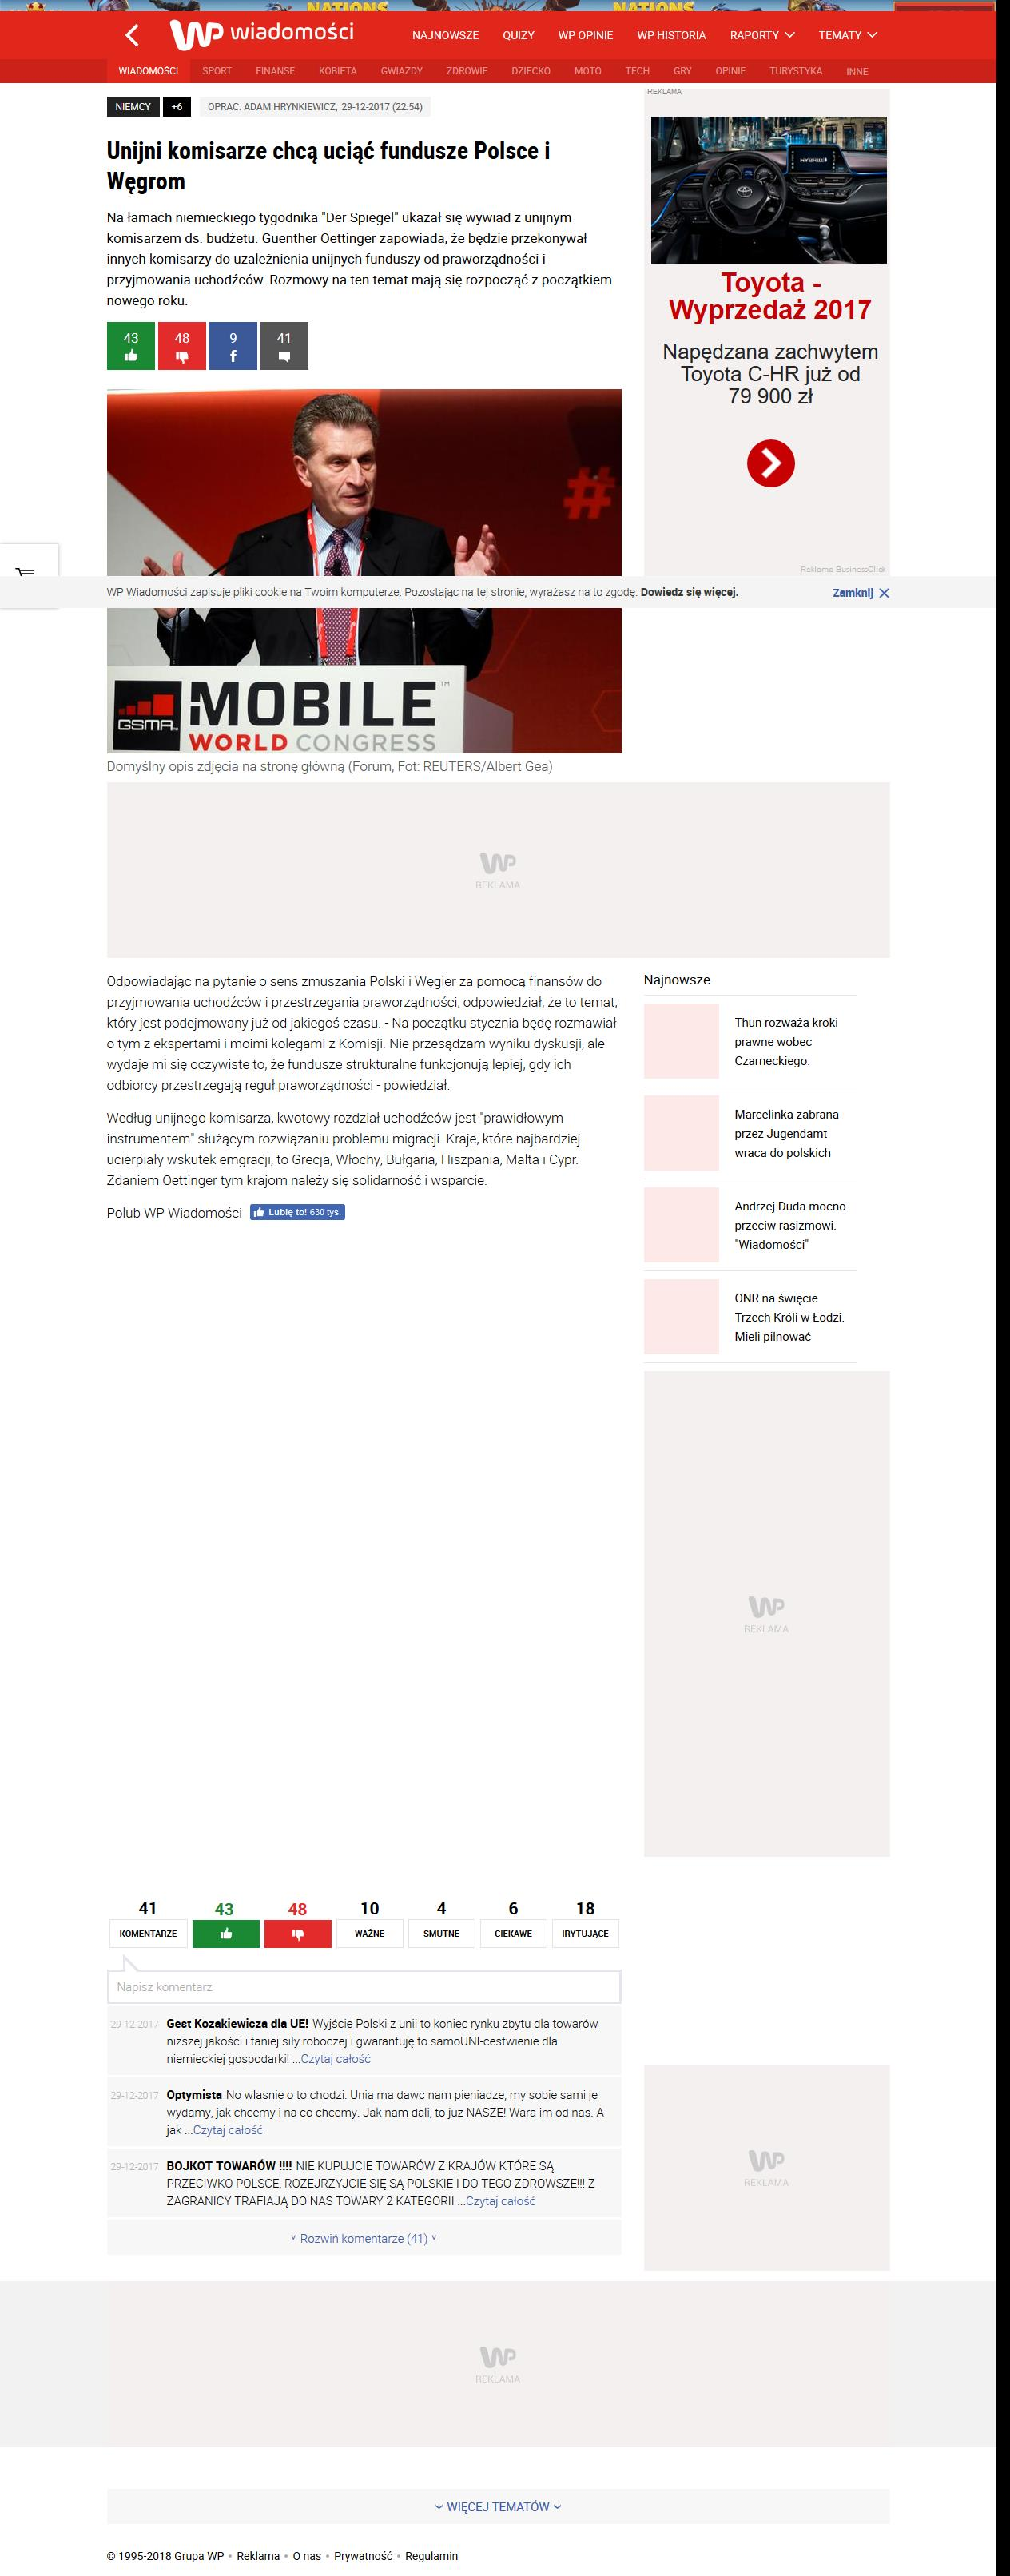title: (107, 140, 550, 195)
